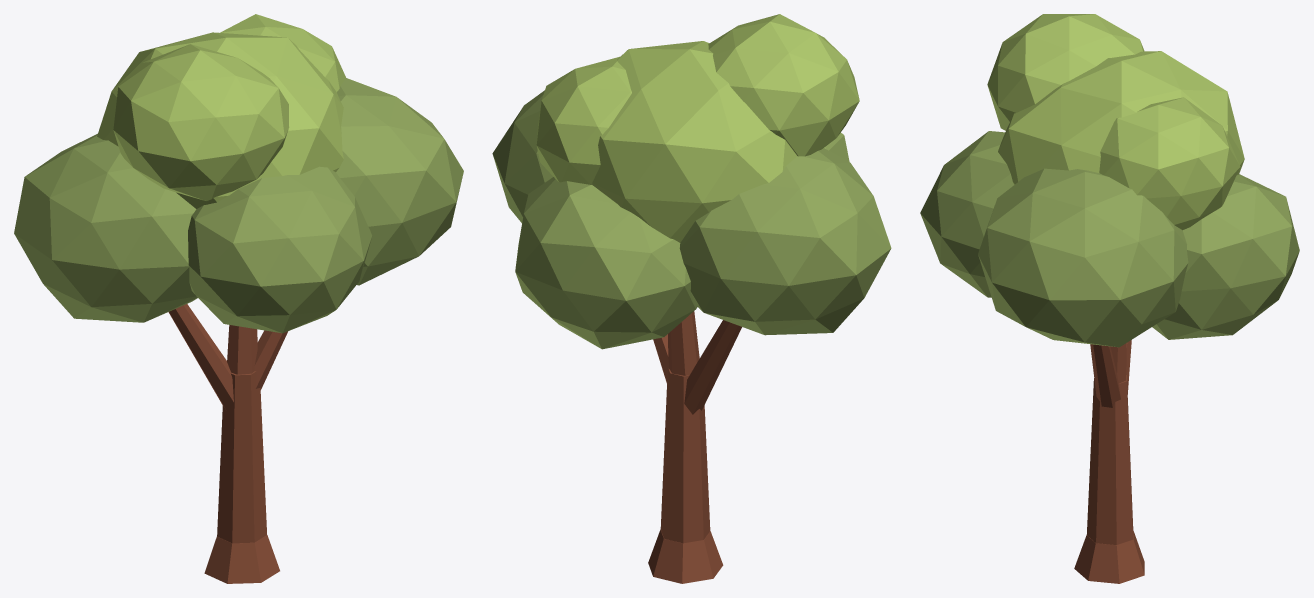
File: Tree_Round.glb
The picture shows the model from 3 angles, left to right: view 1: azimuth 30°, elevation 25°; view 2: azimuth 150°, elevation 25°; view 3: azimuth 270°, elevation 25°; orthographic projection. The views are drawn at different scales.
Visible parts, largest first — view 1: Tree_Round; view 2: Tree_Round; view 3: Tree_Round.
Boxes of the visible parts, <box> form: Tree_Round: <box>14,14,463,583</box>; Tree_Round: <box>492,14,891,583</box>; Tree_Round: <box>920,14,1299,583</box>.
Bounding box in the file's own units: 3.46 × 4.67 × 3.07.
